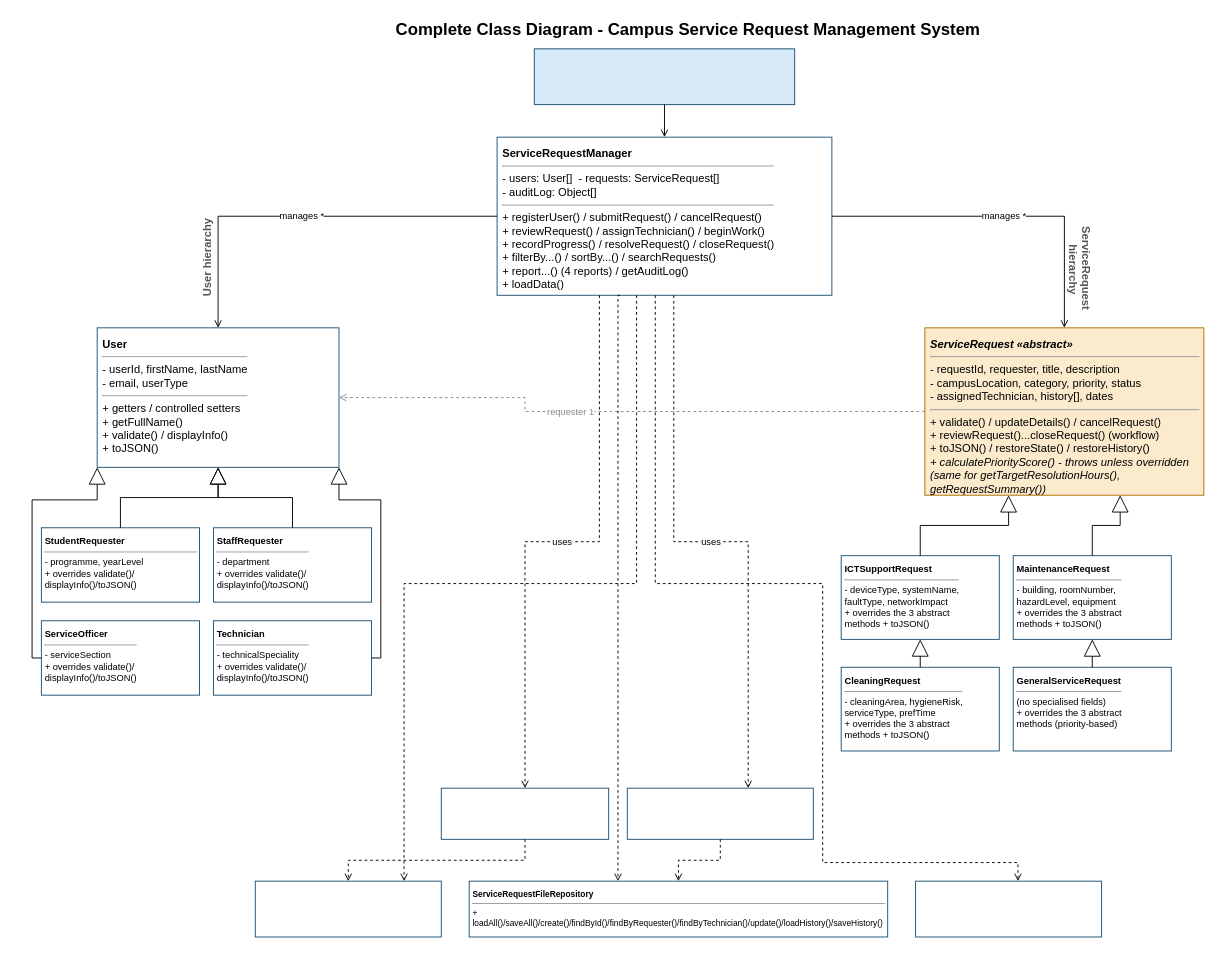
Some shapes in this 1220 by 953 pixel diagram are drawn without their labels. The shapes that lost their labels are listed below. From the top down, each one's centre as x and y in pixels, then its label:
the point at 664,76: CampusServiceApp «module» console entry point
the point at 524,813: UserFactory + createFromData(data)
the point at 719,813: ServiceRequestFactory + createFromData(data, requester, tech)
the point at 347,908: UserFileRepository + loadAll()/saveAll()/create()/findById()/update()
the point at 1008,908: AuditFileRepository + loadAll()/saveAll()/create()/findById()
